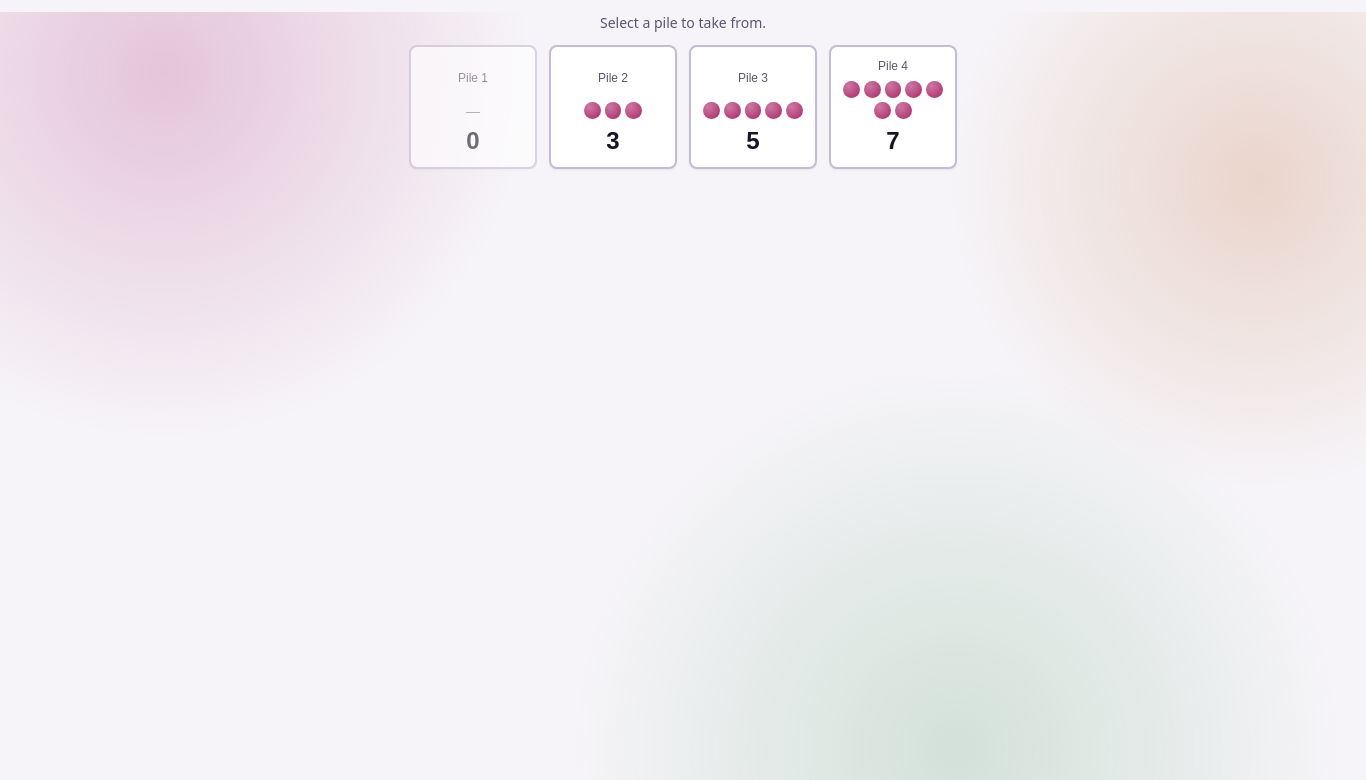
it: NimBoard › activating an empty pile is blocked and shows a warning instead of selecting it
Click the radio button with aria-label "Pile 1, empty".
click(473, 107)  # box [409,45,537,169]
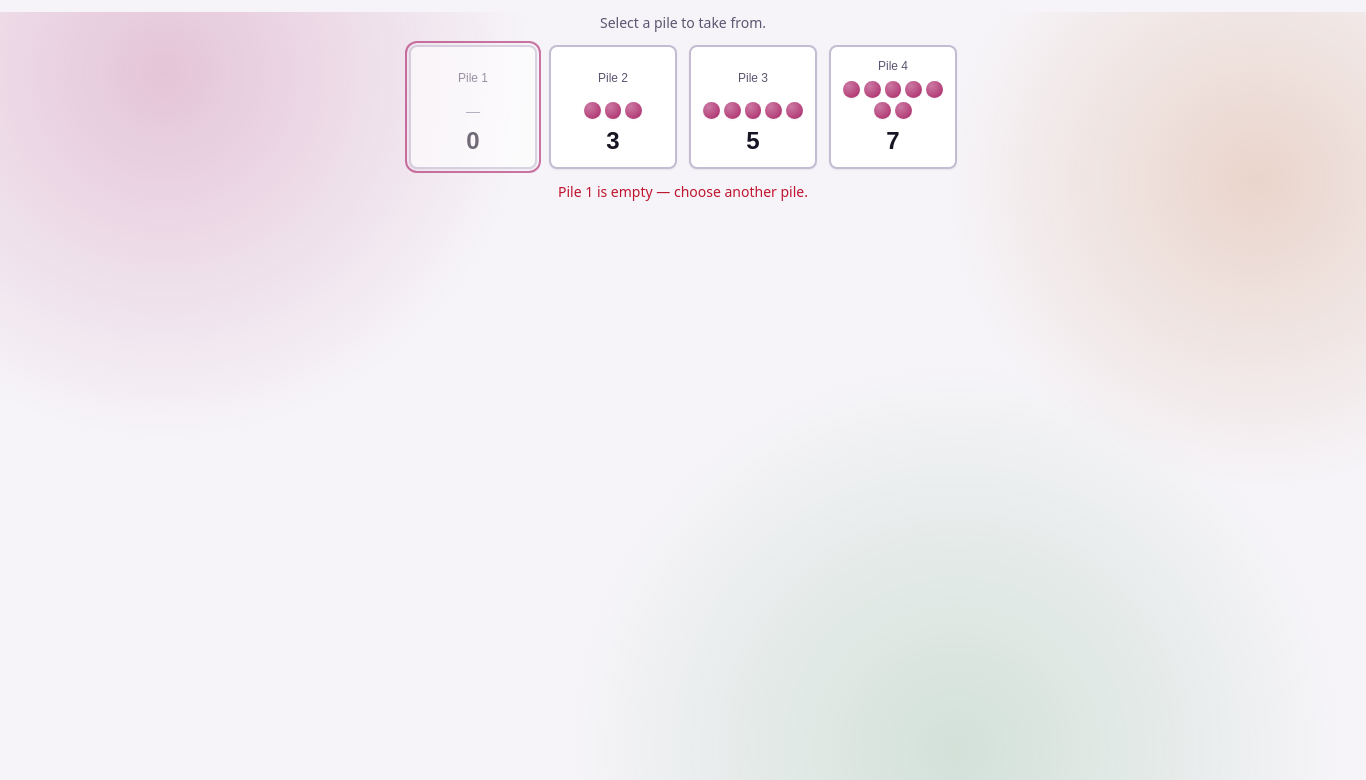
Expected: the message reads "Pile 1 is empty — choose another pile.", [558,182,808,201]
